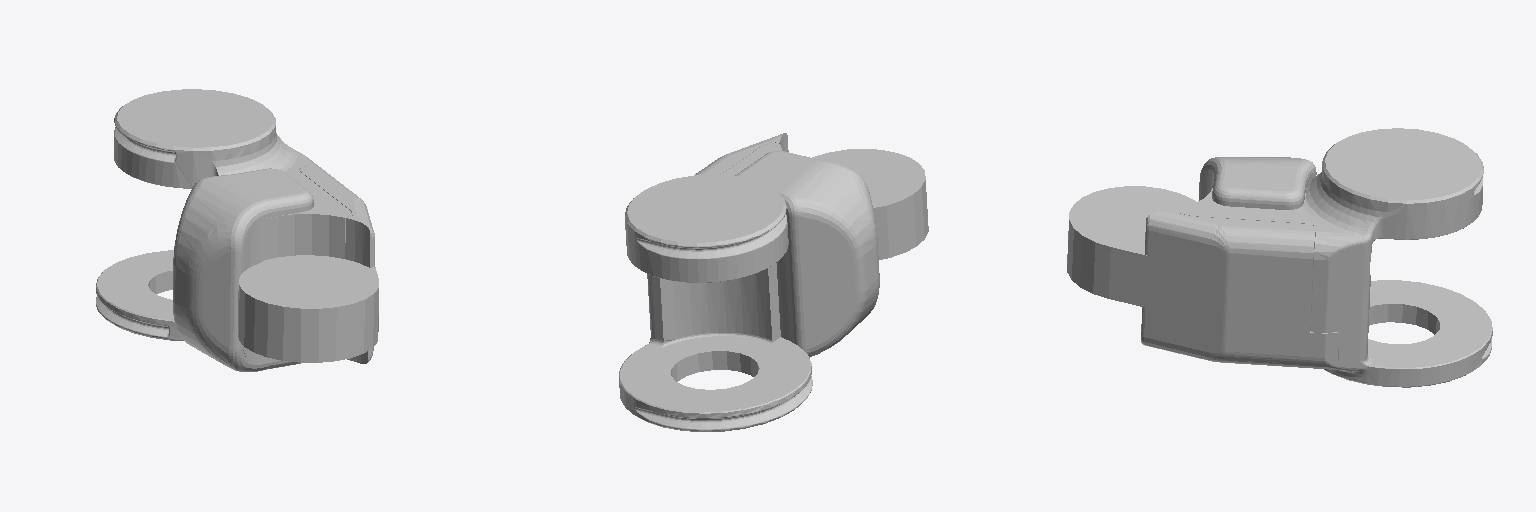
File: converted_r3_finger_proximal_col_808080ff.obj
3 renders of one model, left to right at view 1: azimuth 30°, elevation 25°; view 2: azimuth 150°, elevation 25°; view 3: azimuth 270°, elevation 25°, orthographic.
Size of the model in its own units: 0.0397 by 0.0406 by 0.0814.